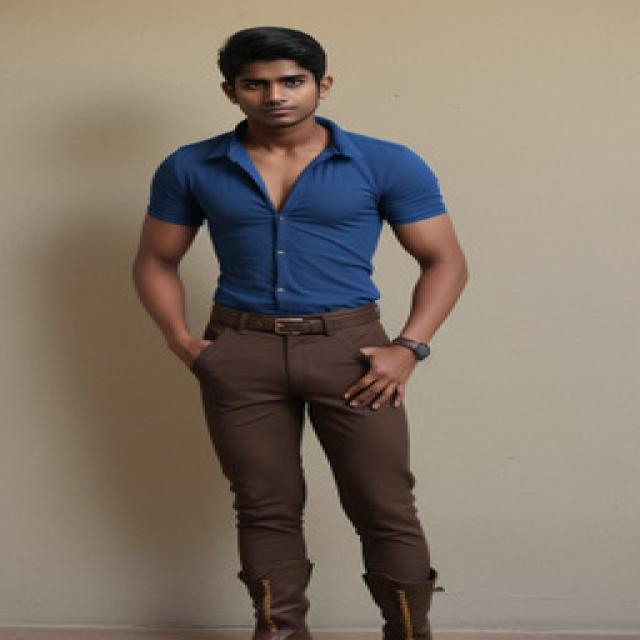Ai human 2: (120, 15, 505, 640)
